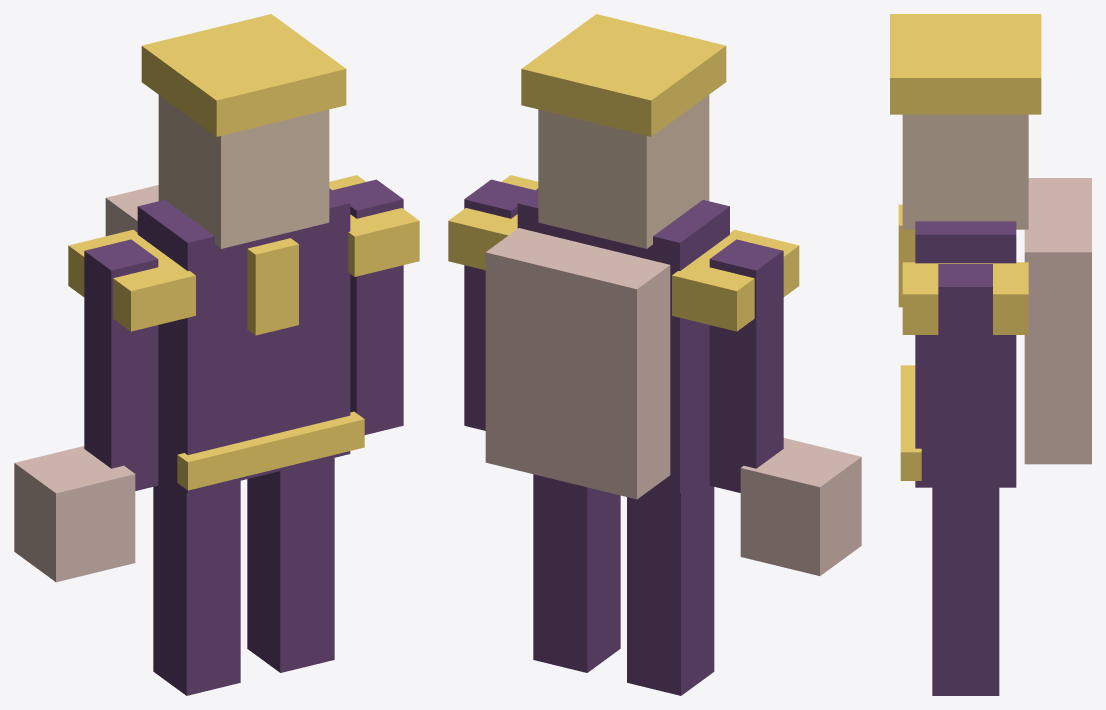
Rendered from 09_maven_dubwater_operator_at_drone.glb.
3 views of the same model, side by side, from view 1: azimuth 30°, elevation 25°; view 2: azimuth 150°, elevation 25°; view 3: azimuth 270°, elevation 25° (orthographic).
Parts seen in each view (by area): view 1: Maven Dubwater, Operator at Drone; view 2: Maven Dubwater, Operator at Drone; view 3: Maven Dubwater, Operator at Drone.
Part boxes in pixels (x1=…): Maven Dubwater, Operator at Drone: x1=14, y1=14, x2=419, y2=695; Maven Dubwater, Operator at Drone: x1=448, y1=14, x2=861, y2=695; Maven Dubwater, Operator at Drone: x1=890, y1=14, x2=1091, y2=695.
Bounding box in the file's own units: 1.03 × 1.67 × 0.4971.
